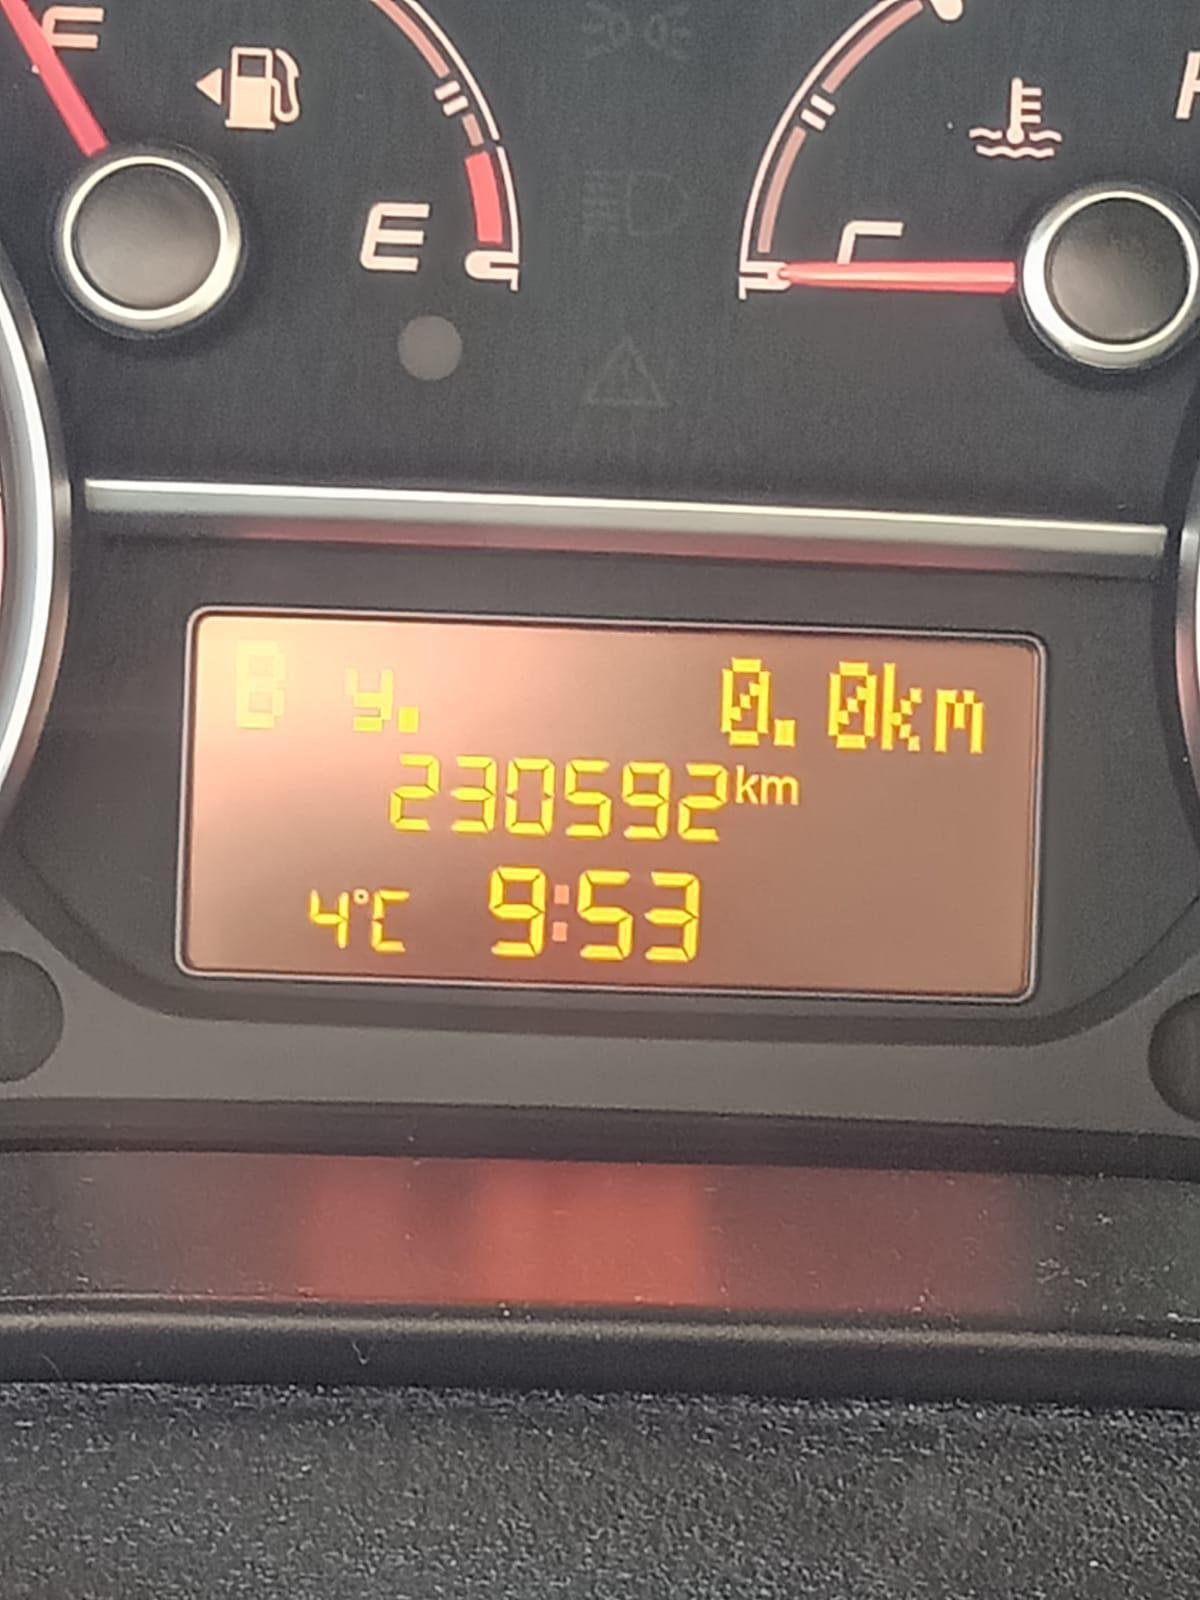,: (770, 716, 799, 750), (395, 702, 422, 734)
0: (823, 658, 879, 753), (503, 755, 556, 839)
2: (676, 761, 731, 844), (388, 751, 442, 835)
3: (642, 869, 703, 966), (444, 753, 499, 834)
4: (306, 884, 350, 952)
5: (577, 867, 638, 963), (560, 756, 614, 839)
9: (487, 863, 550, 961), (621, 758, 672, 843)
X: (226, 637, 292, 729), (717, 655, 773, 750), (881, 660, 924, 753), (933, 687, 987, 757), (342, 665, 395, 734), (369, 887, 415, 957), (550, 881, 574, 947), (759, 772, 802, 806), (734, 763, 761, 805)
odometer: (165, 600, 1051, 1010)
